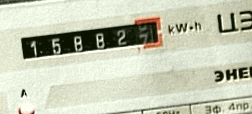1: (28, 38, 40, 57)
2: (115, 27, 128, 46)
5: (50, 37, 63, 55)
7: (138, 32, 150, 44)
8: (71, 33, 84, 51), (94, 30, 106, 49)
screen: (12, 12, 170, 68)
